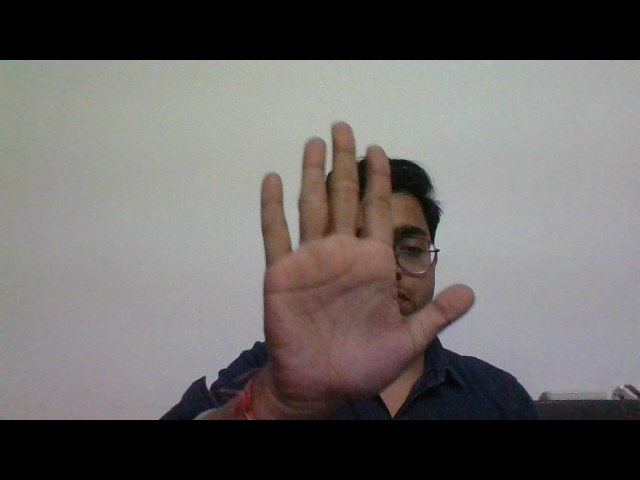Hello: (240, 116, 496, 401)
